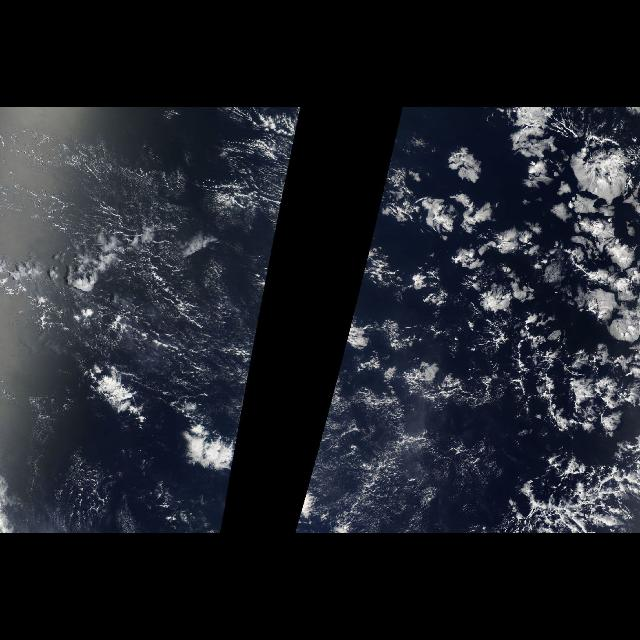Fish: (472, 353, 640, 533)
Flower: (350, 109, 640, 353)
Sugar: (13, 119, 297, 399)
